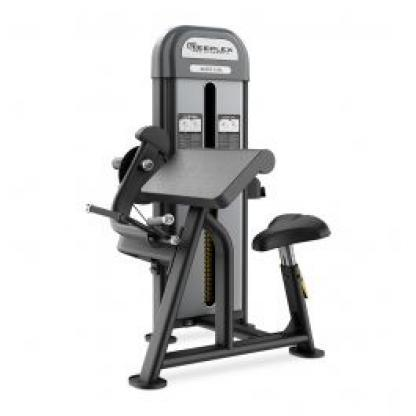arm curl machine: (85, 25, 333, 391)
